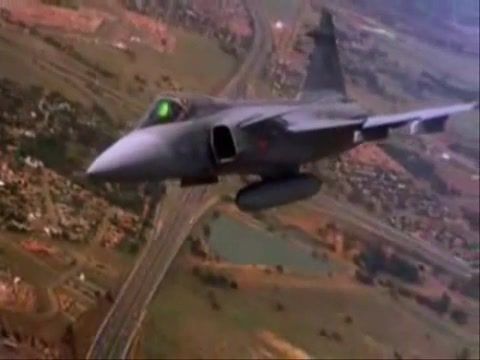aeroplane: (83, 10, 480, 214)
